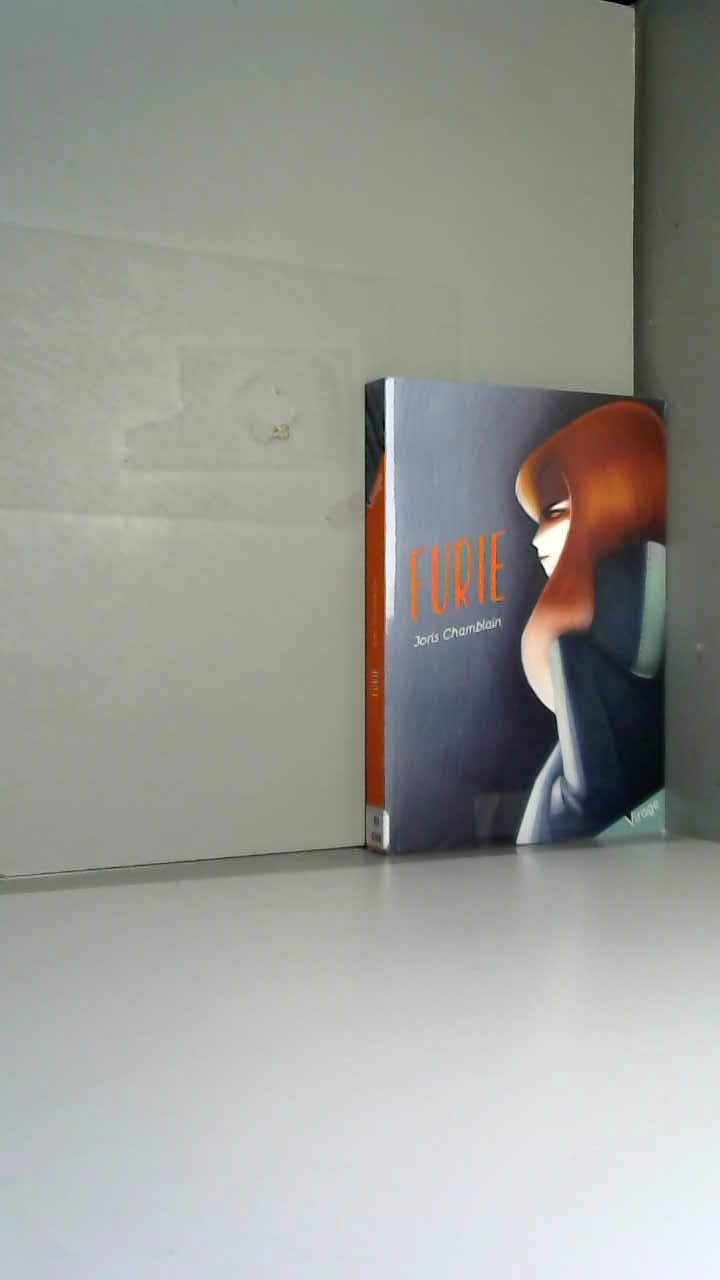book: (340, 350, 720, 913)
